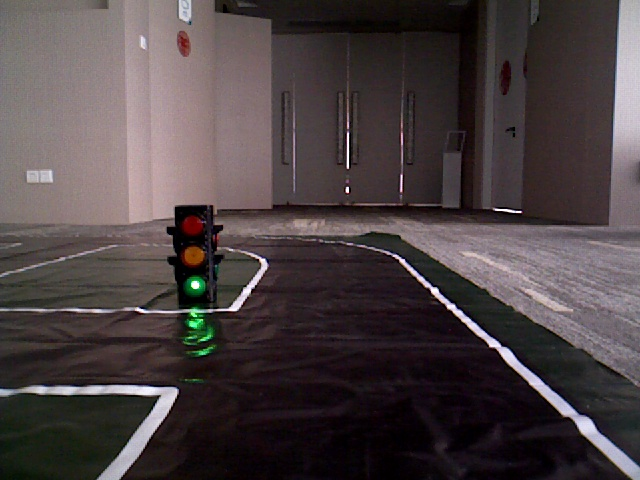green: (176, 208, 211, 298)
